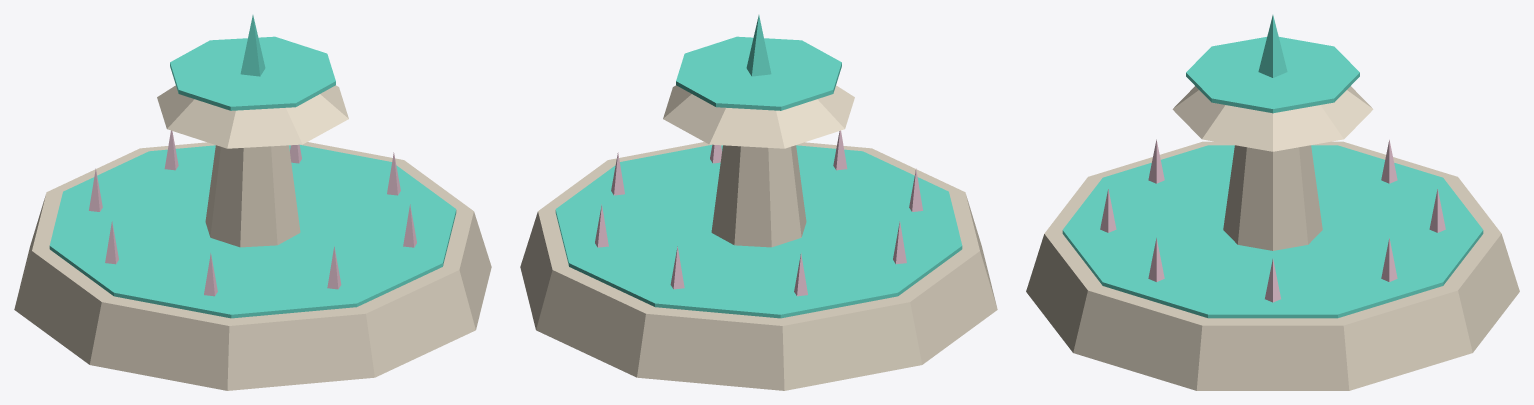
Rendered from prop_fountain.glb.
3 renders of one model, left to right at view 1: azimuth 30°, elevation 25°; view 2: azimuth 150°, elevation 25°; view 3: azimuth 270°, elevation 25°, orthographic.
Parts seen in each view (by area): view 1: prop_fountain; view 2: prop_fountain; view 3: prop_fountain.
Part boxes in pixels (x1,y1,x2,y2): prop_fountain: [14, 15, 491, 390]; prop_fountain: [520, 15, 997, 390]; prop_fountain: [1026, 15, 1519, 390].
Bounding box in the file's own units: 5.14 × 3.35 × 5.4.
Materials: 1 (1 with a texture image).
